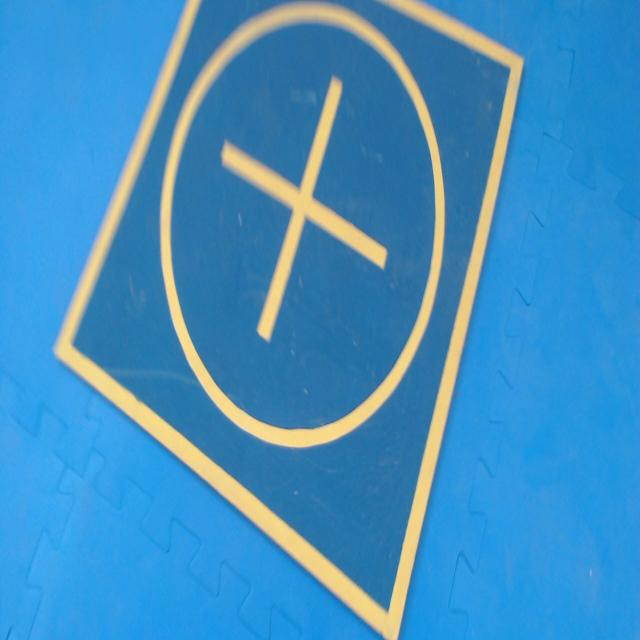base_pouso: (52, 0, 526, 638)
